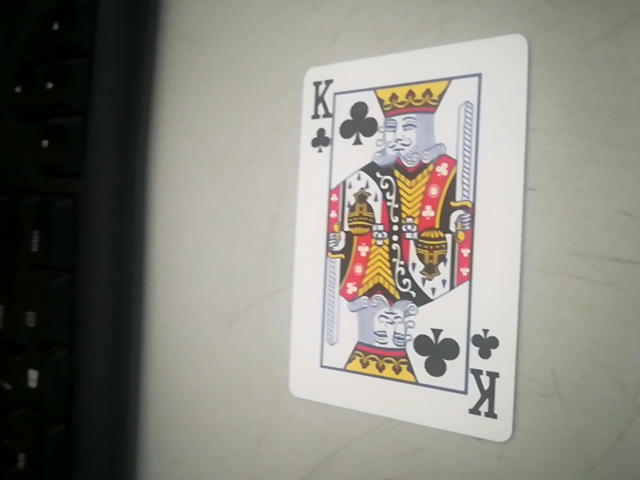mh k: (287, 38, 533, 449)
